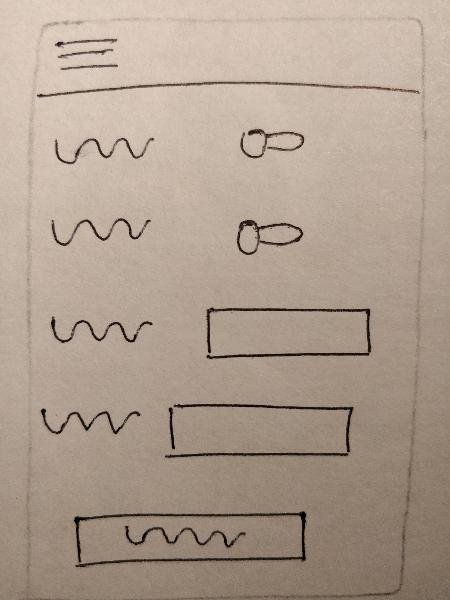switch: (217, 114, 322, 172), (222, 205, 316, 264)
text: (45, 203, 153, 255), (46, 123, 173, 167), (45, 304, 157, 353), (35, 393, 142, 441)
text_input: (160, 394, 361, 468), (195, 297, 380, 364)
